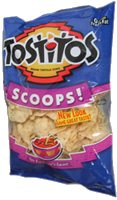grozi_115: (2, 2, 117, 196)
